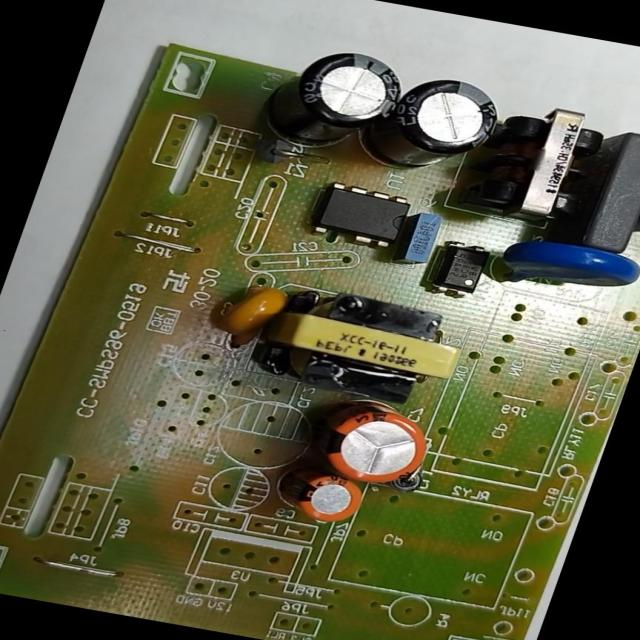Cap1: (292, 393, 447, 492)
Cap2: (263, 458, 379, 532)
Cap3: (348, 65, 516, 185)
Cap4: (244, 36, 423, 168)
MOSFET: (301, 178, 425, 254)
Mov: (476, 226, 640, 308)
Transformer: (239, 280, 480, 414), (450, 92, 618, 234)
